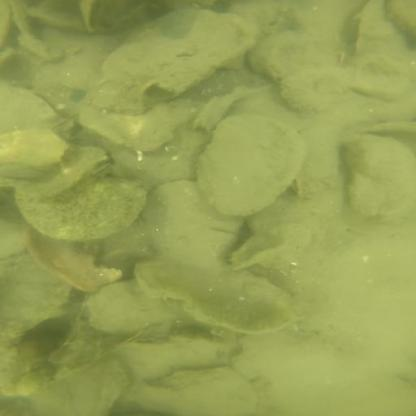Oyster- Indeterminate: (88, 164, 113, 180)
Oyster-Closed: (130, 254, 313, 337), (103, 7, 258, 97), (193, 114, 306, 215), (12, 172, 153, 238), (78, 97, 200, 155), (19, 229, 122, 294), (332, 307, 405, 392), (126, 368, 258, 414), (30, 355, 126, 415), (87, 280, 181, 337), (248, 28, 344, 83), (20, 140, 112, 197), (279, 65, 351, 110), (351, 55, 412, 99)
